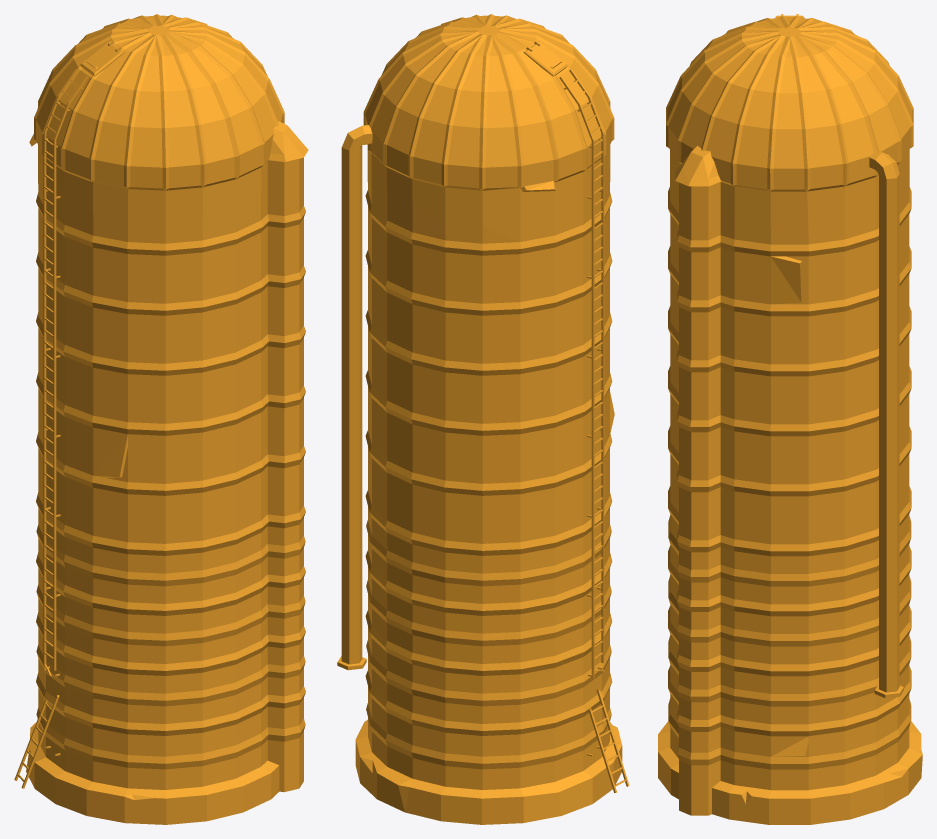
The model's file is SM_Silo_Grain_Old.fbx.
The picture shows the model from 3 angles, left to right: view 1: azimuth 30°, elevation 25°; view 2: azimuth 150°, elevation 25°; view 3: azimuth 270°, elevation 25°; orthographic projection.
Visible parts, largest first — view 1: silo-grain-old; view 2: silo-grain-old; view 3: silo-grain-old.
Boxes of the visible parts, x1=… form: silo-grain-old: x1=14, y1=14, x2=308, y2=824; silo-grain-old: x1=337, y1=14, x2=629, y2=824; silo-grain-old: x1=658, y1=14, x2=922, y2=824.
Bounding box in the file's own units: 6.65 × 18.56 × 6.04.
